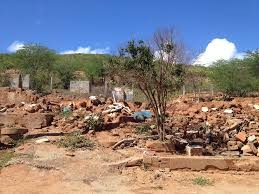rubble: (53, 101, 153, 130)
